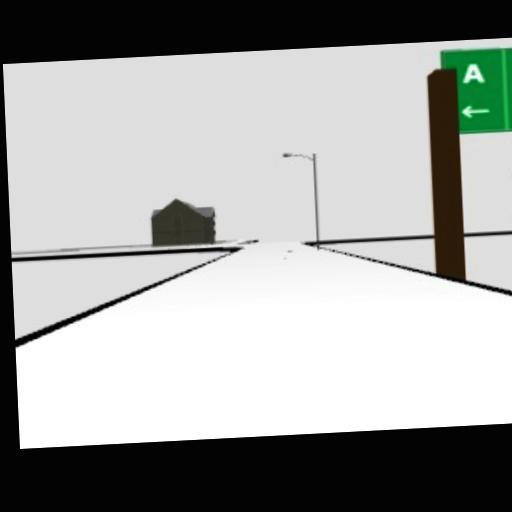A: (461, 58, 486, 83)
Left: (459, 103, 491, 118)
